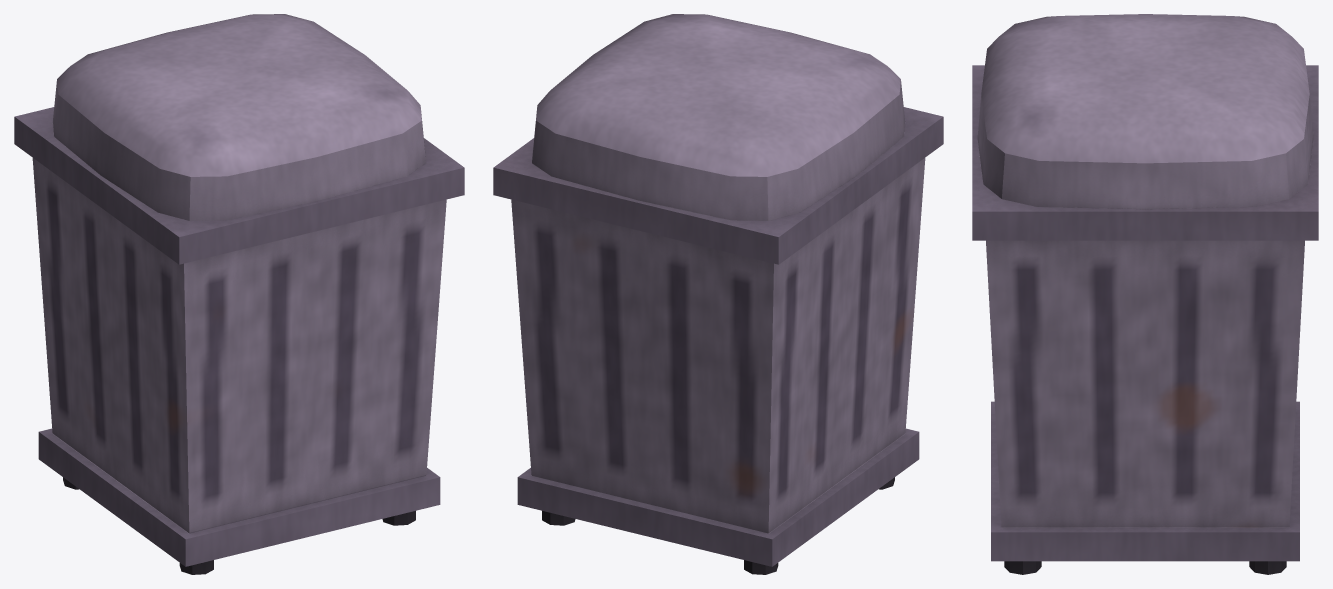
The model's file is Hazard_Bin.fbx.
3 renders of one model, left to right at view 1: azimuth 30°, elevation 25°; view 2: azimuth 150°, elevation 25°; view 3: azimuth 270°, elevation 25°, orthographic. The views are drawn at different scales.
Parts seen in each view (by area): view 1: Hazard_Bin.001, Lid; view 2: Hazard_Bin.001, Lid; view 3: Hazard_Bin.001, Lid.
Boxes of the visible parts, x1,y1,x2,y2 form: Hazard_Bin.001: [14, 107, 464, 574]; Lid: [53, 14, 425, 220]; Hazard_Bin.001: [493, 107, 943, 574]; Lid: [532, 14, 904, 220]; Hazard_Bin.001: [972, 65, 1318, 574]; Lid: [977, 14, 1313, 209].
Size of the model in its own units: 0.65 by 0.936 by 0.65.
1 material, 1 textured.
